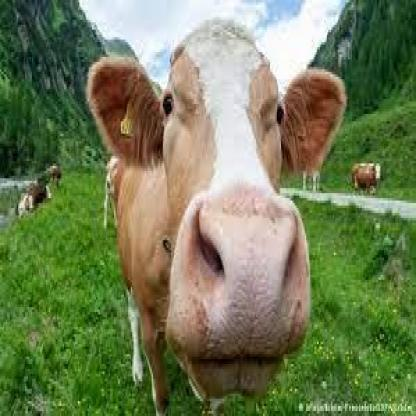cow: (87, 22, 347, 416), (15, 178, 53, 218), (351, 162, 385, 192), (45, 164, 65, 184)
